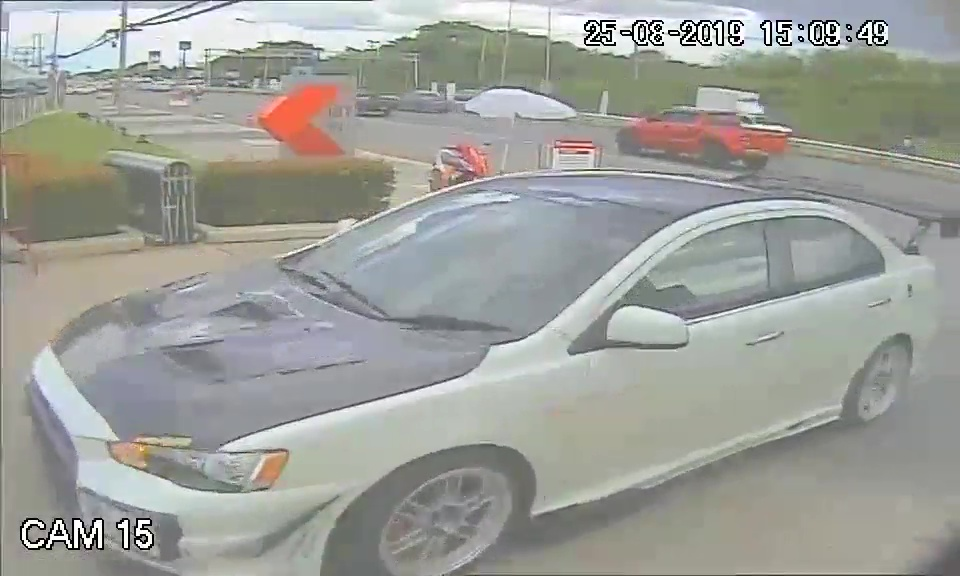sedan: (30, 169, 664, 568)
